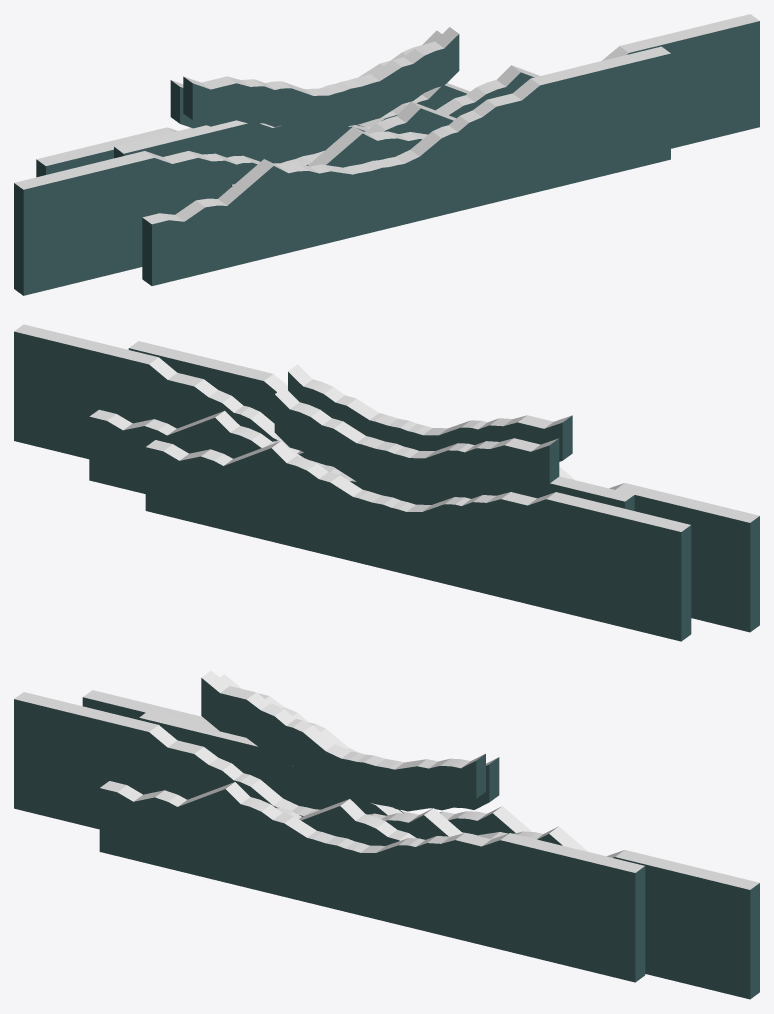
The model's file is Level_Track_OBJ.fbx.
3 renders of one model, top to bottom at view 1: azimuth 30°, elevation 25°; view 2: azimuth 150°, elevation 25°; view 3: azimuth 330°, elevation 25°, orthographic. The views are drawn at different scales.
Visible parts, largest first — view 1: pCube8; view 2: pCube8; view 3: pCube8.
Boxes of the visible parts, left/top/right/bottom form: pCube8: left=14, top=14, right=759, bottom=295; pCube8: left=14, top=324, right=759, bottom=641; pCube8: left=14, top=670, right=759, bottom=999.
Bounding box in the file's own units: 394 × 87.57 × 51.08.
